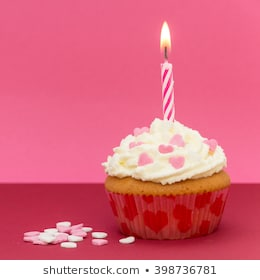Fire: (156, 20, 176, 62)
